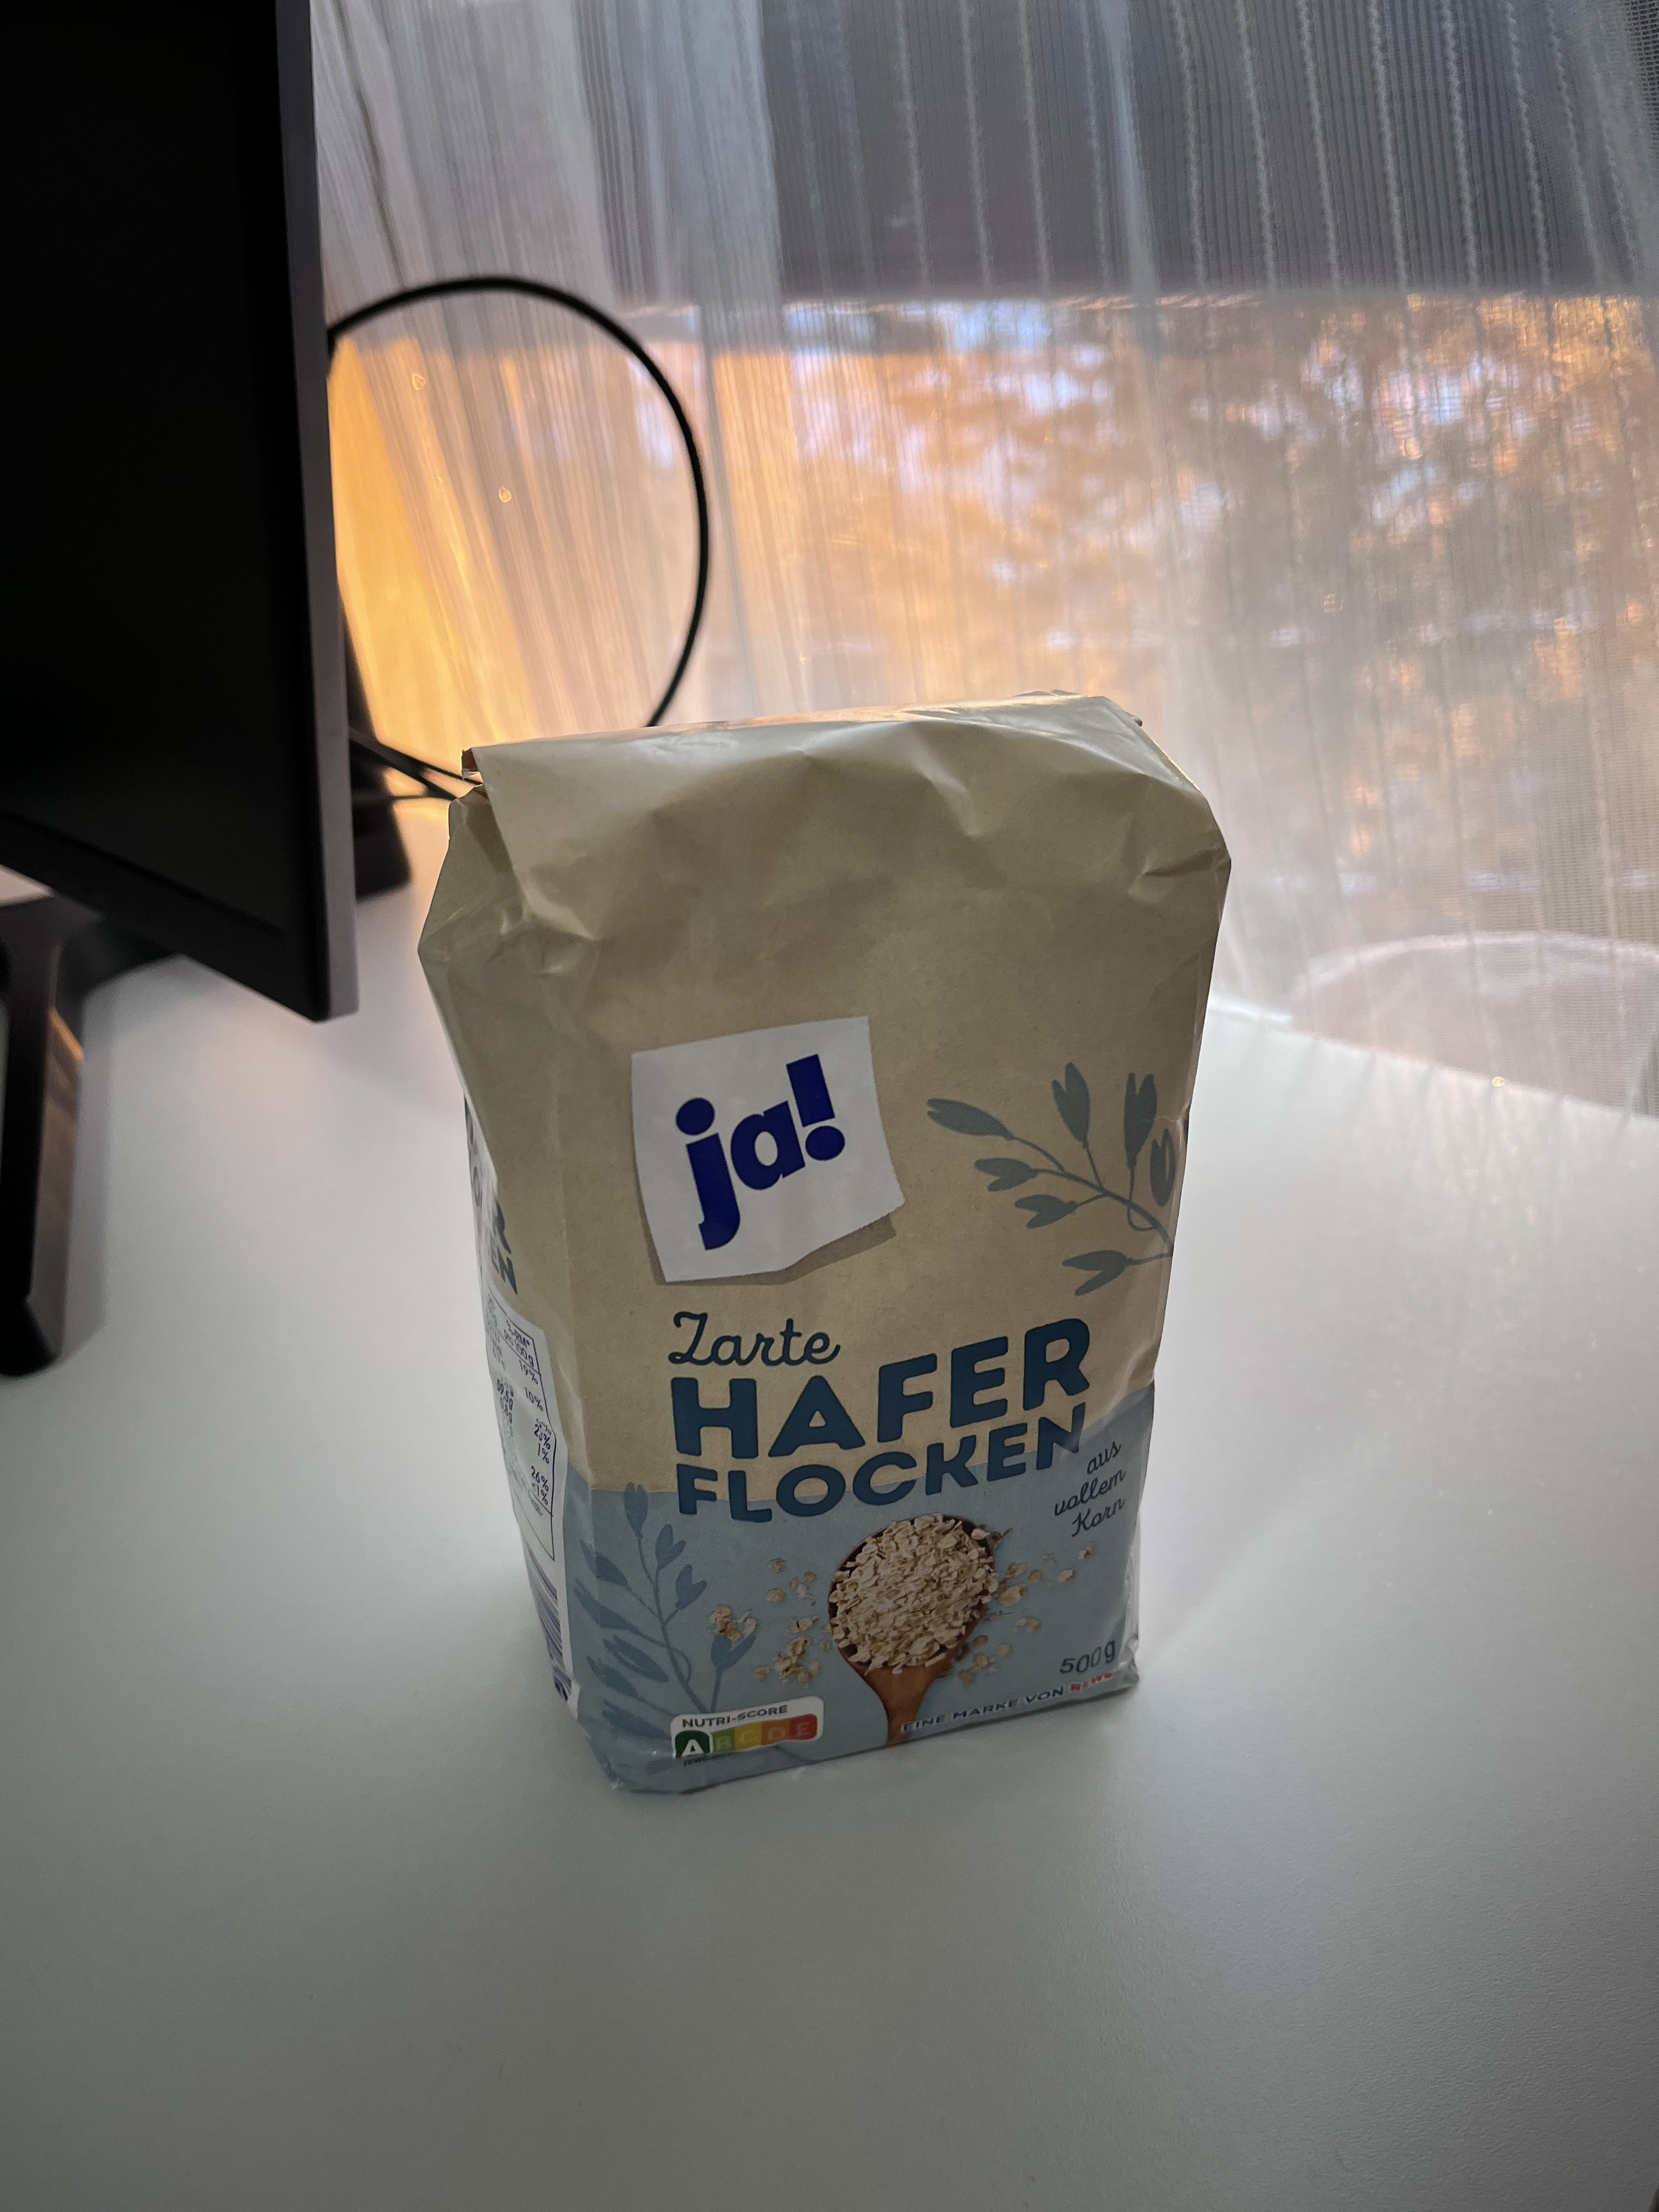haferflocken_ja: (418, 690, 1237, 1799)
